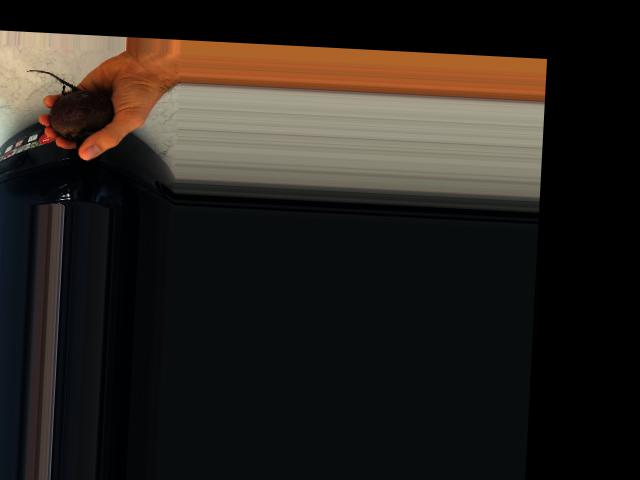beet: (22, 69, 115, 150)
